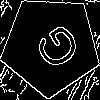G: (26, 20, 84, 79)
